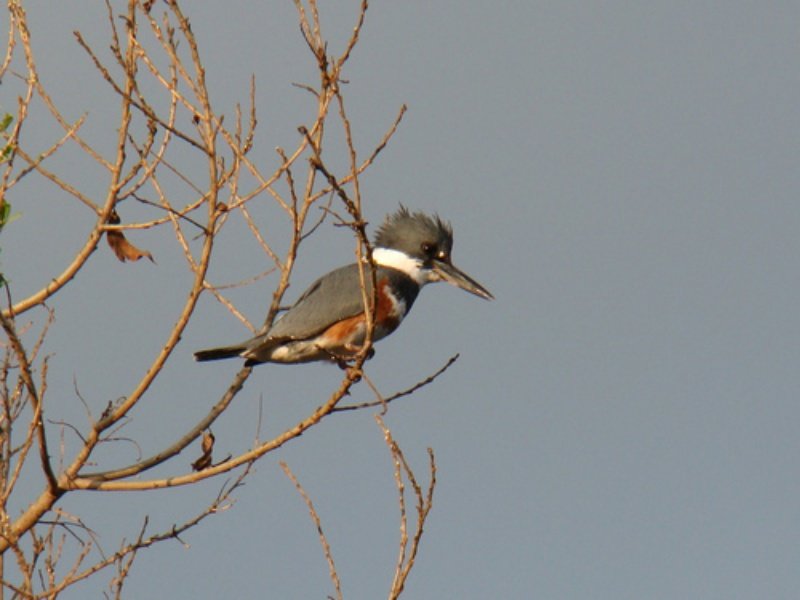kingfisher: (189, 197, 505, 393)
